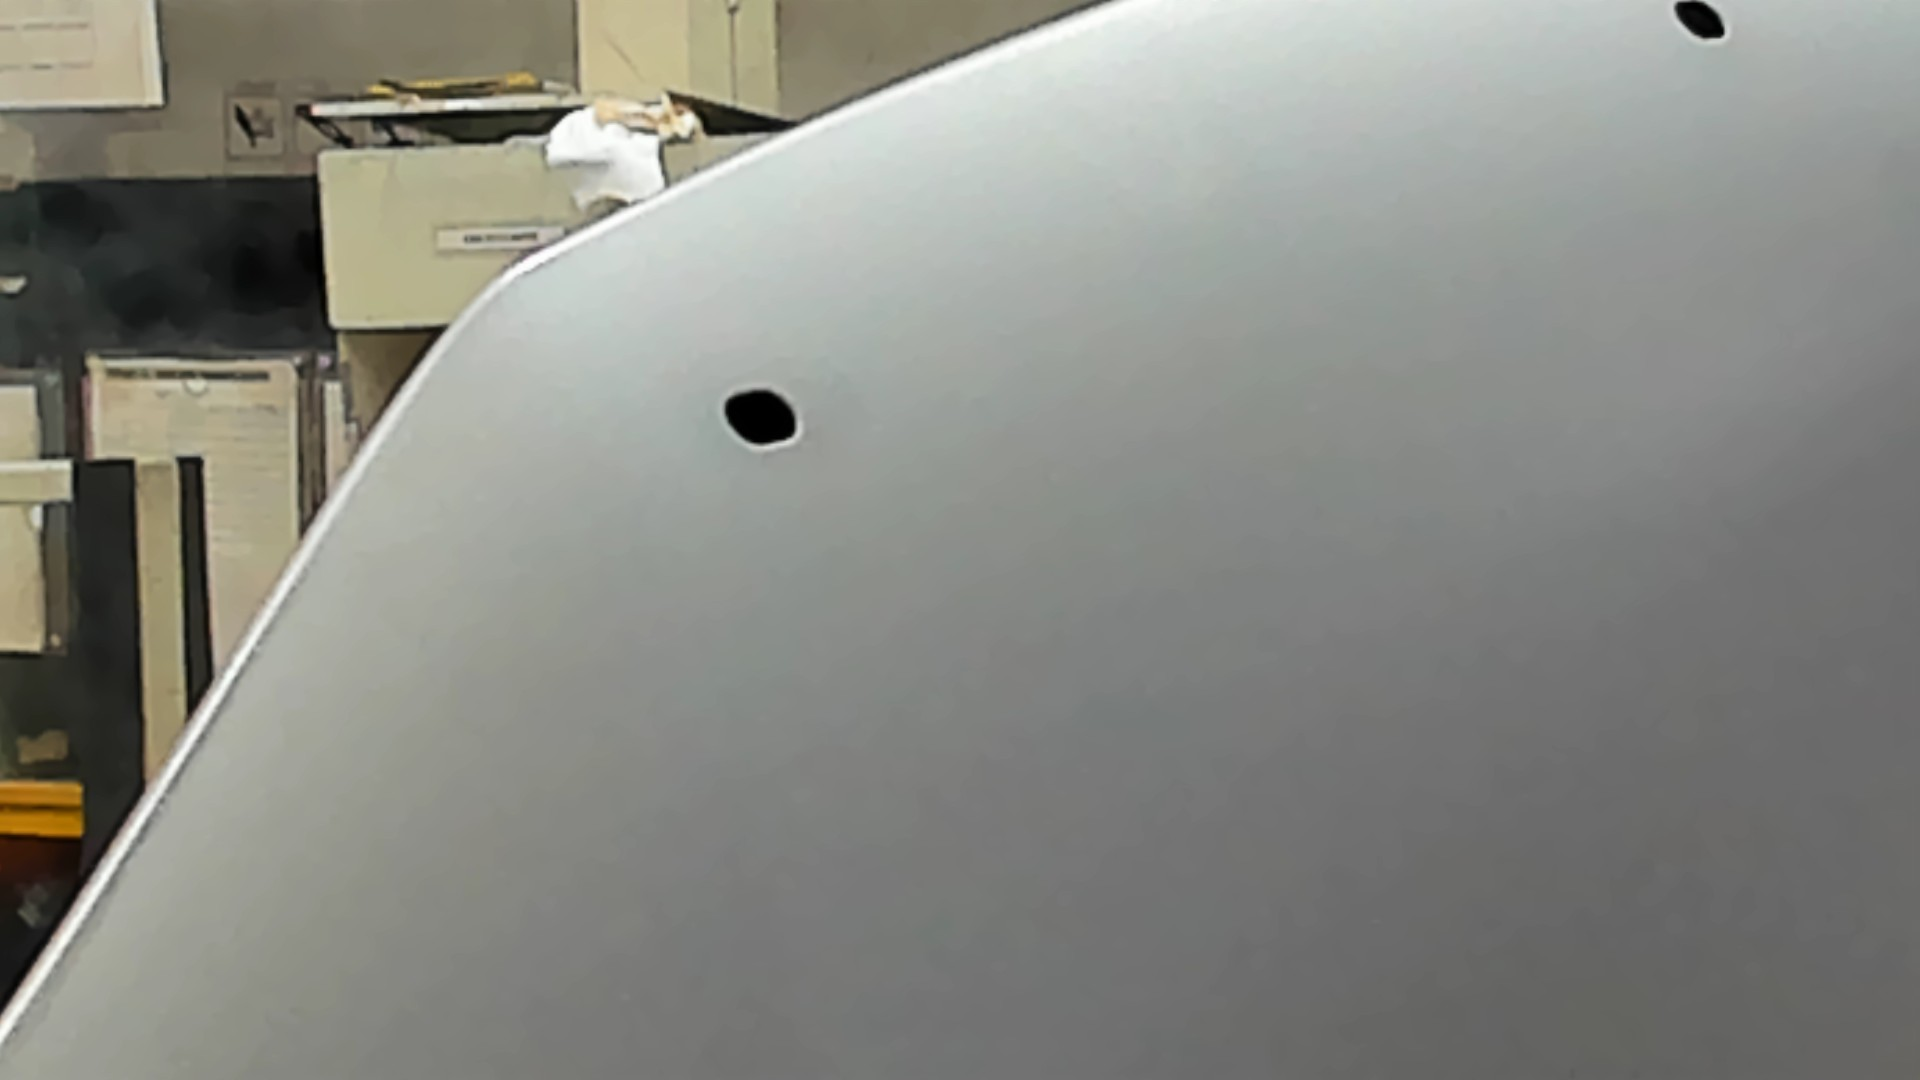Agujero: (713, 382, 807, 451), (1665, 1, 1734, 50)
